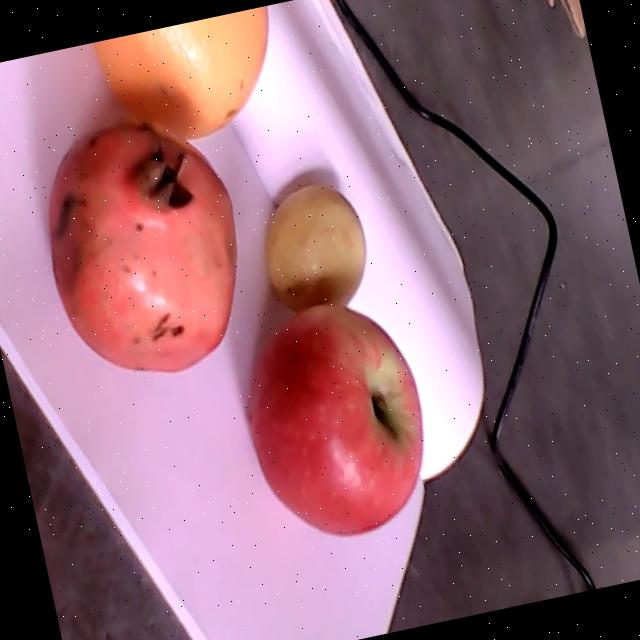apple: (248, 306, 424, 532)
lemon: (265, 183, 365, 312)
orange: (92, 7, 265, 138)
pomegranate: (47, 124, 236, 372)
